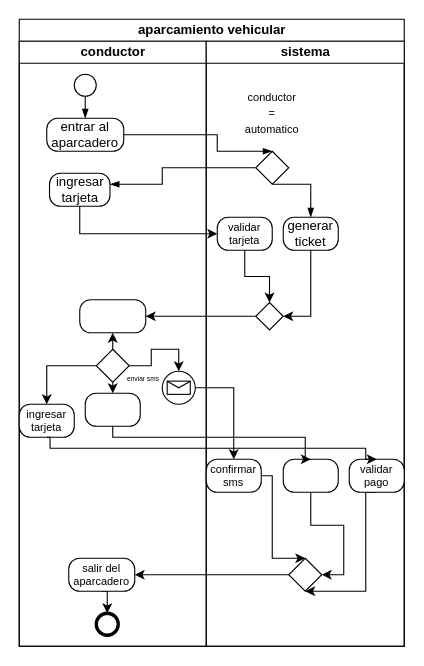
Image size: 424x666. Some labels were removed from this diagram. Here are the shapes that lost their labels. From the top down, the centre of each, then its label:
At (x=112, y=316): "estacionar".
At (x=112, y=409): "pagar resguardo".
At (x=310, y=475): "confirmar pago".
